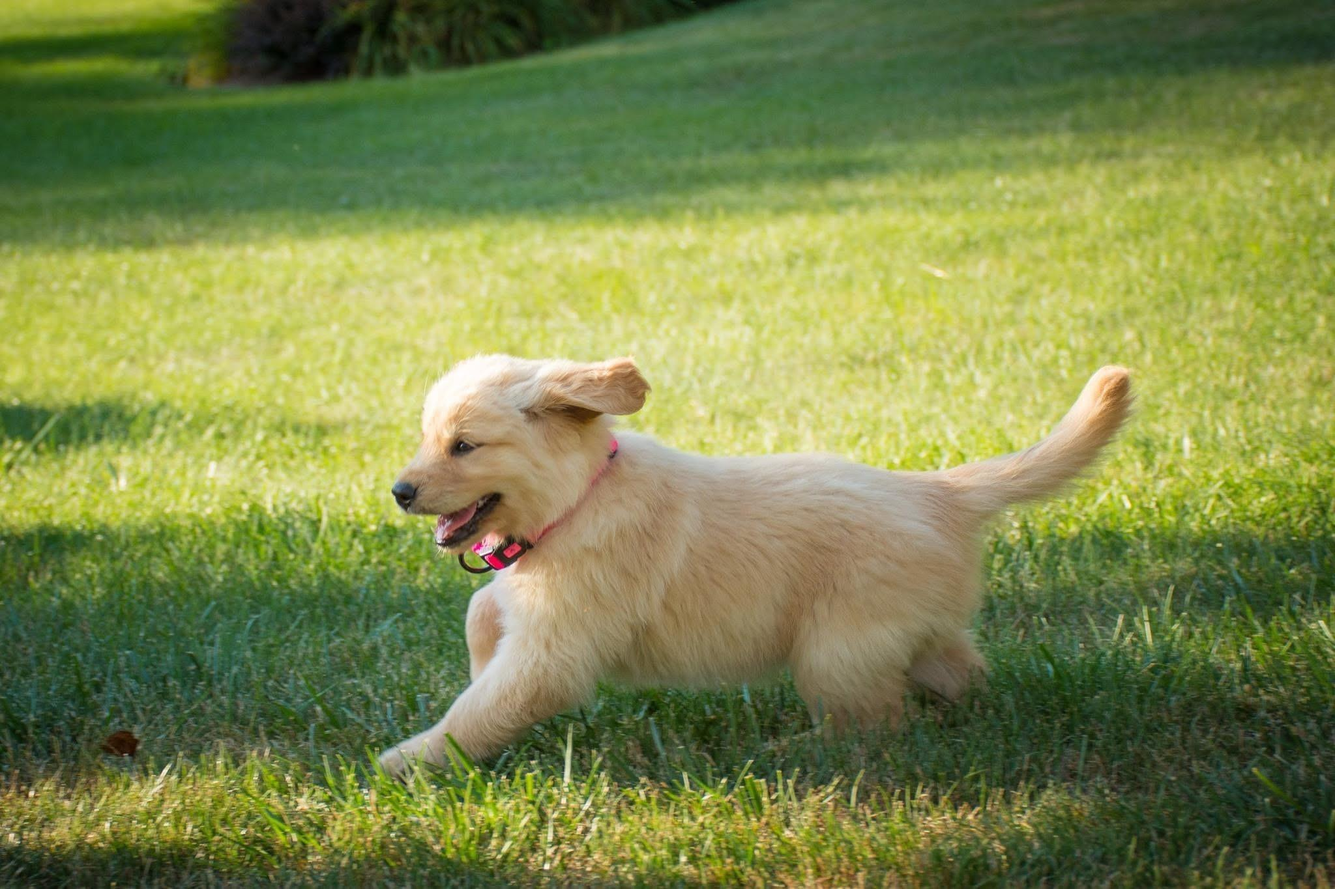puppy-dog: (370, 353, 1137, 786)
